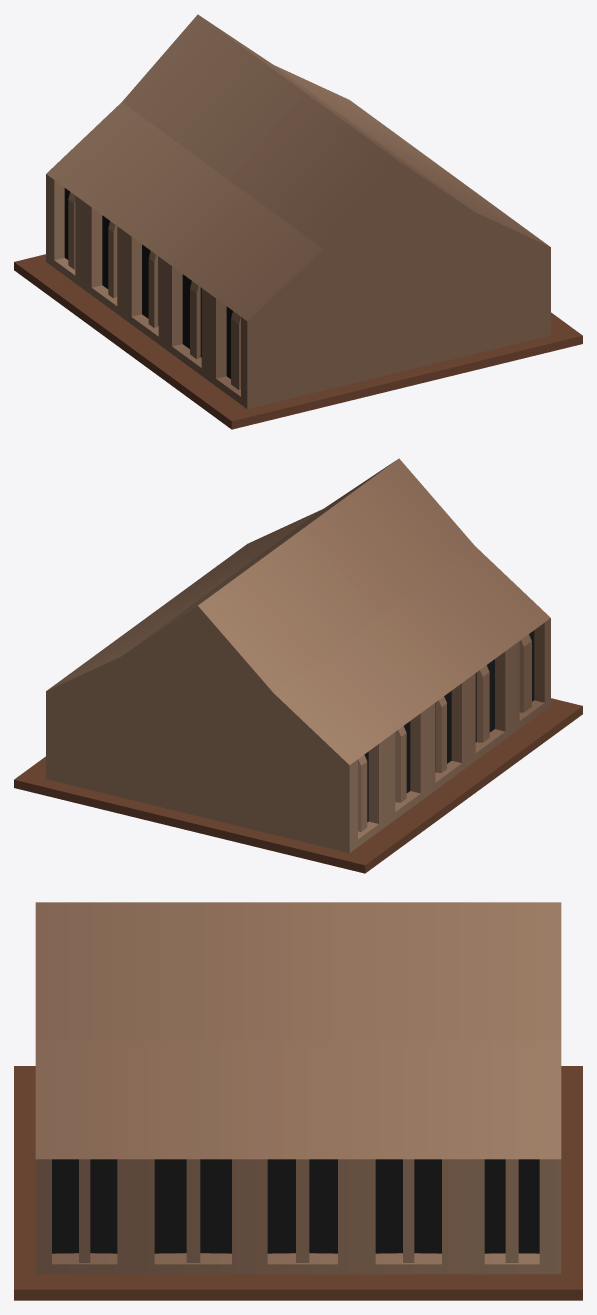
The model's file is RUMAH ADAT BETANG DALAM V2.fbx.
The picture shows the model from 3 angles, top to bottom: view 1: azimuth 30°, elevation 25°; view 2: azimuth 150°, elevation 25°; view 3: azimuth 270°, elevation 25°; orthographic projection. The views are drawn at different scales.
Visible parts, largest first — view 1: Cube.003; view 2: Cube.003; view 3: Cube.003.
Part boxes in pixels (<box>): Cube.003: <box>14,14,582,429</box>; Cube.003: <box>14,458,582,873</box>; Cube.003: <box>14,902,582,1300</box>.
Size of the model in its own units: 2011 by 1199 by 2161.
